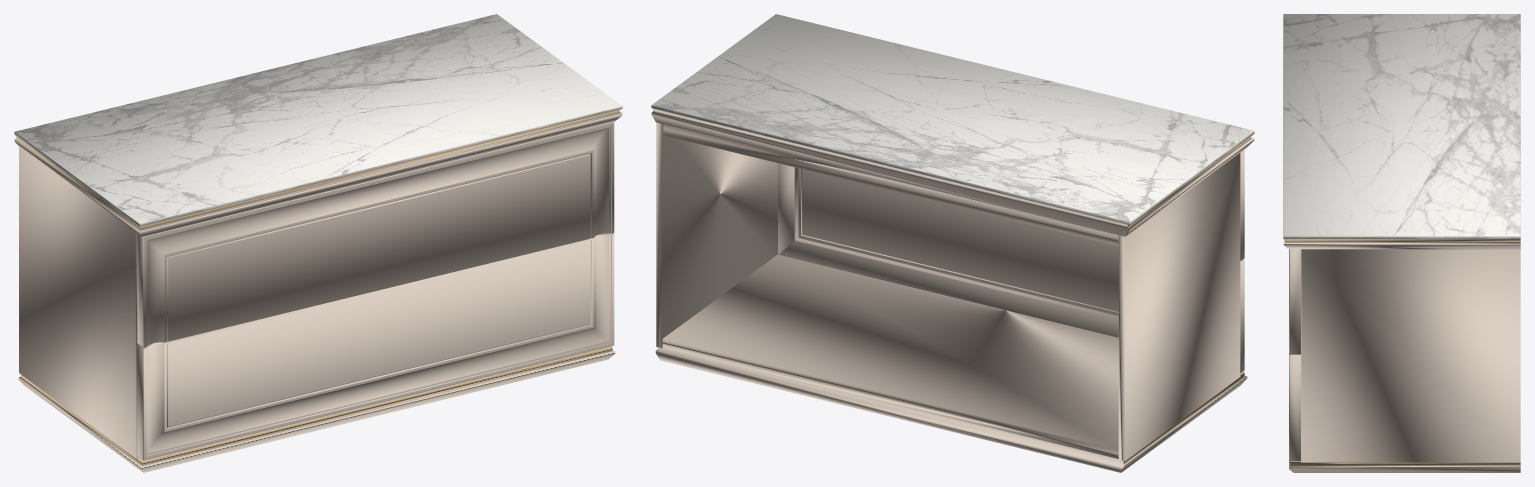
3 renders of one model, left to right at view 1: azimuth 30°, elevation 25°; view 2: azimuth 150°, elevation 25°; view 3: azimuth 270°, elevation 25°, orthographic. The views are drawn at different scales.
Parts seen in each view (by area): view 1: болванка 2.003, BL04.001; view 2: BL04.001, болванка 2.003; view 3: BL04.001, болванка 2.003.
Part boxes in pixels (x1,y1,x2,y2): болванка 2.003: [137, 121, 614, 460]; BL04.001: [14, 14, 622, 472]; BL04.001: [651, 14, 1254, 472]; болванка 2.003: [778, 150, 1244, 373]; BL04.001: [1283, 14, 1520, 472]; болванка 2.003: [1289, 249, 1300, 461].
Bounding box in the file's own units: 1.1 × 0.556 × 0.496.
Materials: 3 (2 with a texture image).
